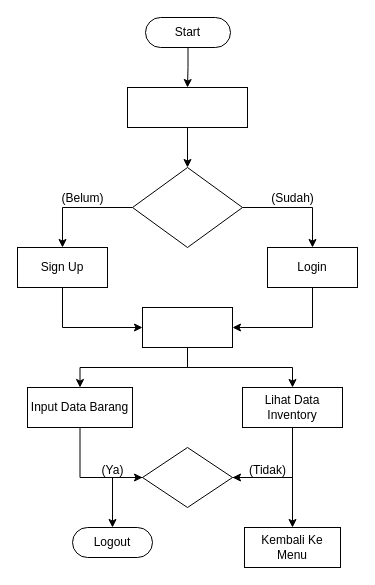
Image size: 375x585. Some labels were removed from this diagram. Here are the shapes that lost their labels. From the top down, the centre of each, then its label:
At (187,107): "Buka Website Inventory".
At (187,207): "Apakah sudah punya akun?".
At (187,327): "Pilih Menu".
At (187,477): "Apakah selesai?".
